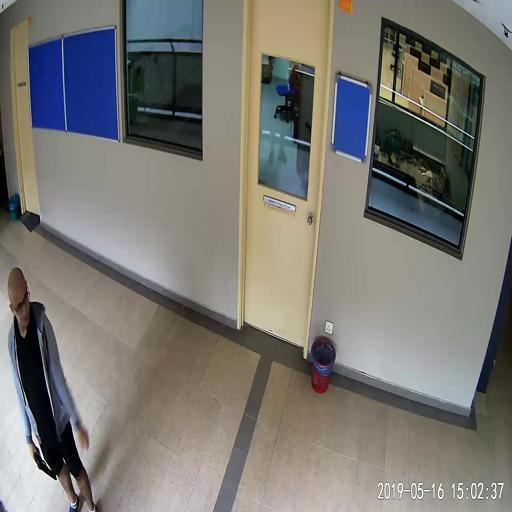pistol: (33, 446, 56, 479)
